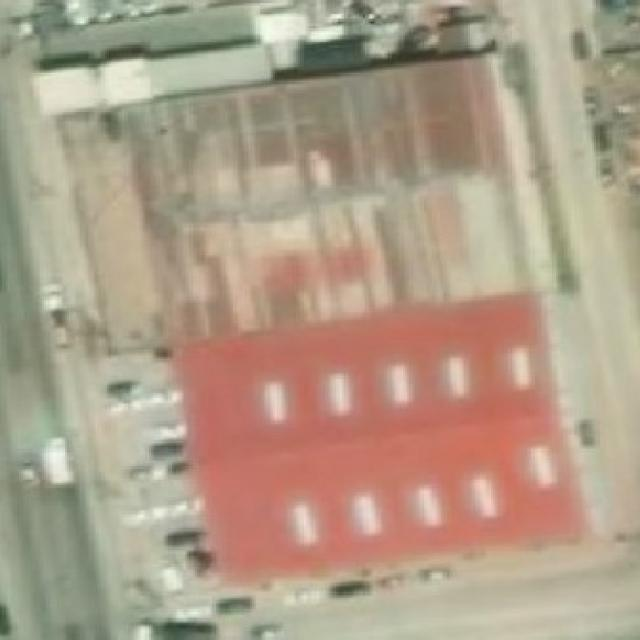Batiment: (180, 296, 580, 580), (35, 44, 269, 114)
